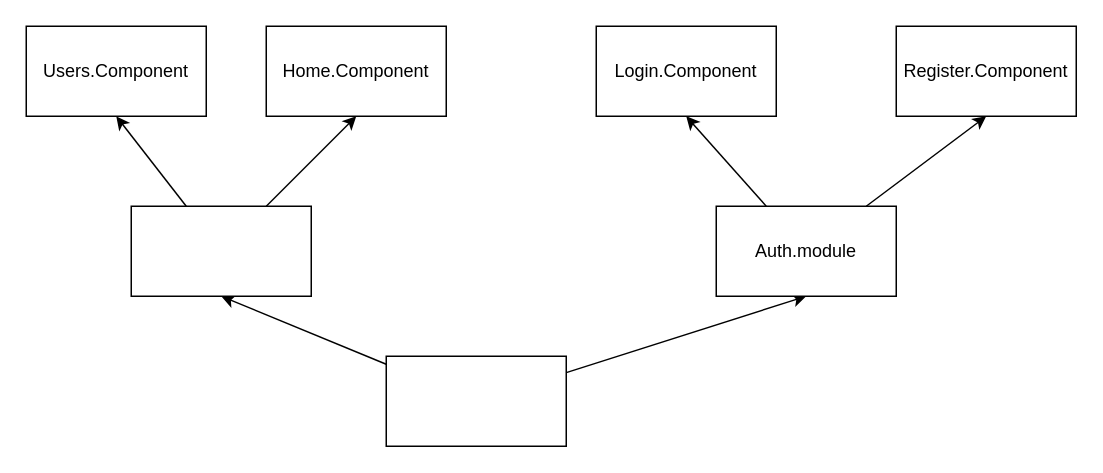
This 1103x473 diagram has some shape labels left out. Here are the shapes that lost their labels. From the top down, the box of each, then its label:
(130, 205, 311, 296): Dashboard.module
(385, 355, 566, 446): app module
